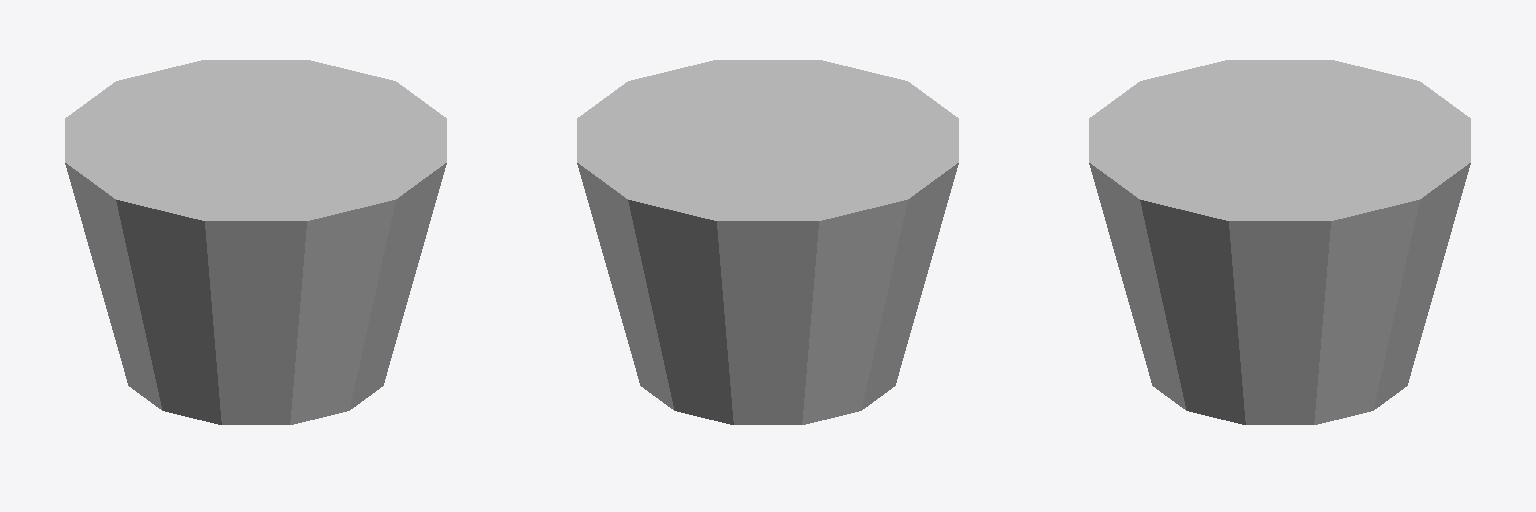
Rendered from Cork.obj.
The picture shows the model from 3 angles: view 1: azimuth 30°, elevation 25°; view 2: azimuth 150°, elevation 25°; view 3: azimuth 270°, elevation 25°; orthographic projection.
Parts seen in each view (by area): view 1: cylinder; view 2: cylinder; view 3: cylinder.
Part boxes in pixels (x1,y1,x2,y2): cylinder: (65, 60, 446, 424); cylinder: (577, 60, 958, 424); cylinder: (1089, 60, 1470, 424).
Bounding box in the file's own units: 0.375 × 0.25 × 0.375.